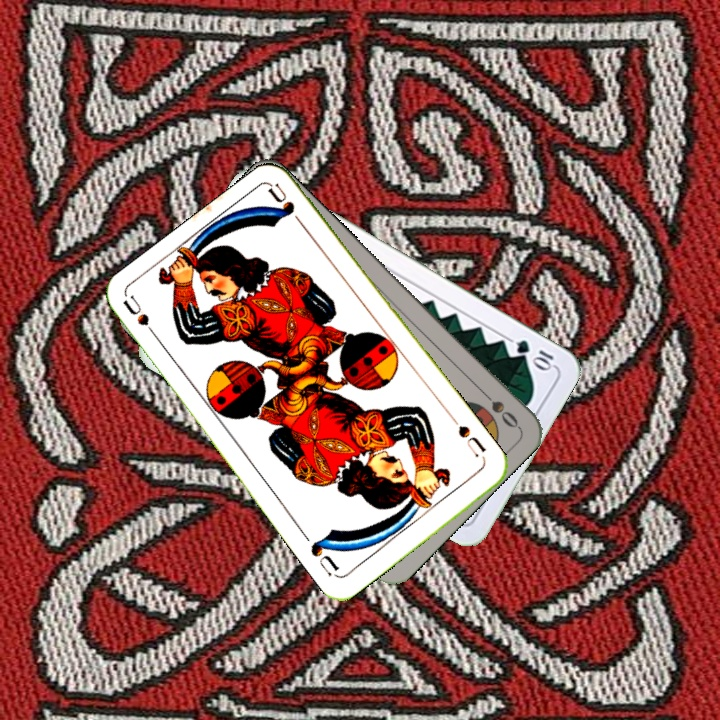G10: (512, 335, 557, 373)
SO: (475, 384, 522, 431)
SU: (120, 292, 164, 346), (453, 421, 488, 460)
